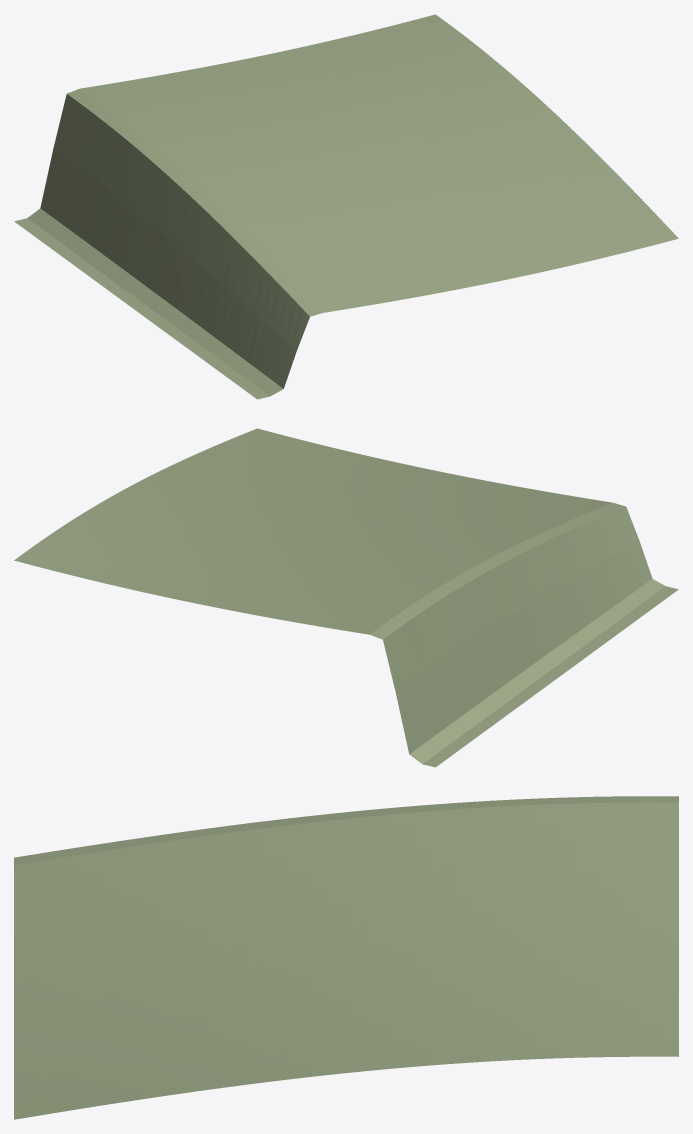
File: valley-8-15.glb
3 renders of one model, top to bottom at view 1: azimuth 30°, elevation 25°; view 2: azimuth 150°, elevation 25°; view 3: azimuth 270°, elevation 25°, orthographic. The views are drawn at different scales.
Visible parts, largest first — view 1: valley-8-15; view 2: valley-8-15; view 3: valley-8-15.
Boxes of the visible parts, <box> form: valley-8-15: <box>14,14,678,399</box>; valley-8-15: <box>14,428,678,767</box>; valley-8-15: <box>14,796,678,1119</box>.
Bounding box in the file's own units: 256 × 67.77 × 256.
